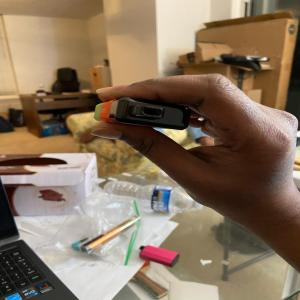Swift-E-Ciggirate: (92, 97, 200, 130)
